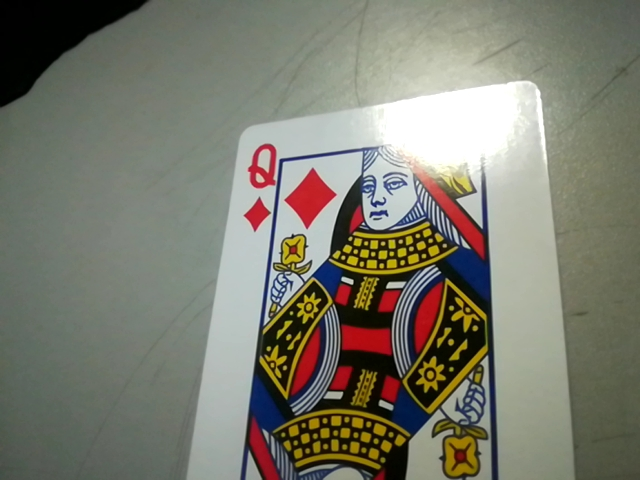fk q: (231, 135, 284, 230)
